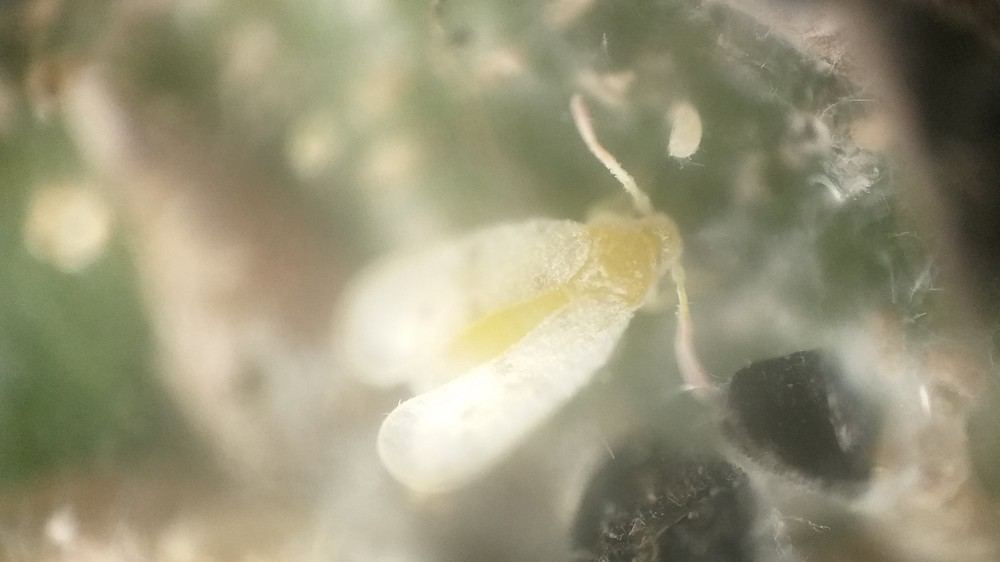Mosca Blanca: (324, 97, 735, 510)
